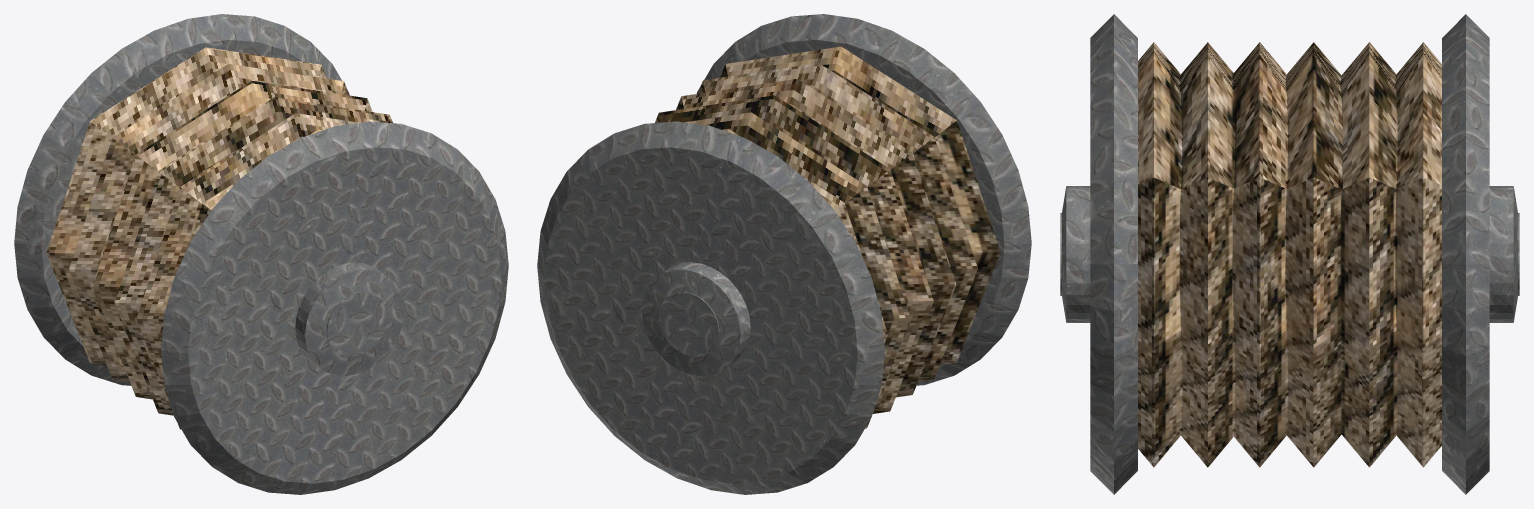
Rendered from Rope Holder.fbx.
3 views of the same model, side by side, from view 1: azimuth 30°, elevation 25°; view 2: azimuth 150°, elevation 25°; view 3: azimuth 270°, elevation 25° (orthographic). The views are drawn at different scales.
Parts seen in each view (by area): view 1: outer, rope; view 2: outer, rope; view 3: rope, outer.
Part boxes in pixels (<box>): outer: <box>14,14,508,494</box>; rope: <box>46,47,392,429</box>; outer: <box>537,14,1031,494</box>; rope: <box>655,46,1000,428</box>; rope: <box>1138,42,1441,467</box>; outer: <box>1060,14,1519,494</box>.
Size of the model in its own units: 183 by 183 by 175.
